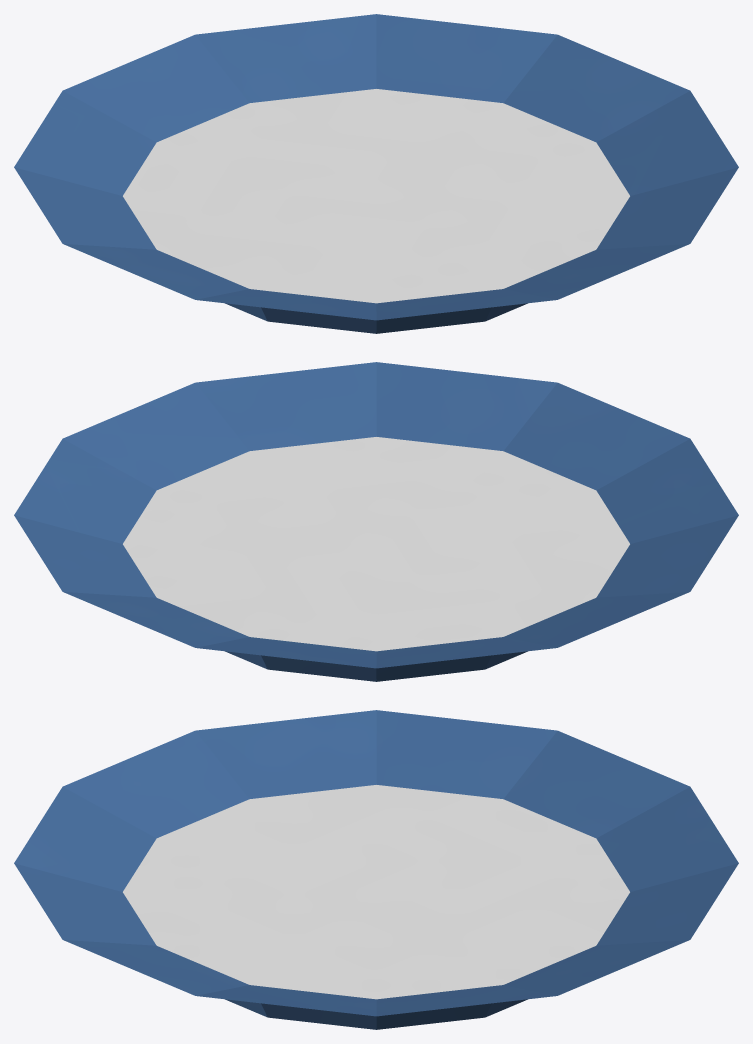
Rendered from Plate_02.fbx.
3 views of the same model, one above another, from view 1: azimuth 30°, elevation 25°; view 2: azimuth 150°, elevation 25°; view 3: azimuth 270°, elevation 25° (orthographic).
Parts seen in each view (by area): view 1: Plate_02; view 2: Plate_02; view 3: Plate_02.
Part boxes in pixels (box(x1,y1,x2,y2)): Plate_02: box(14, 14, 738, 333); Plate_02: box(14, 362, 738, 681); Plate_02: box(14, 710, 738, 1029).
Size of the model in its own units: 0.2734 by 0.0311 by 0.2734.
